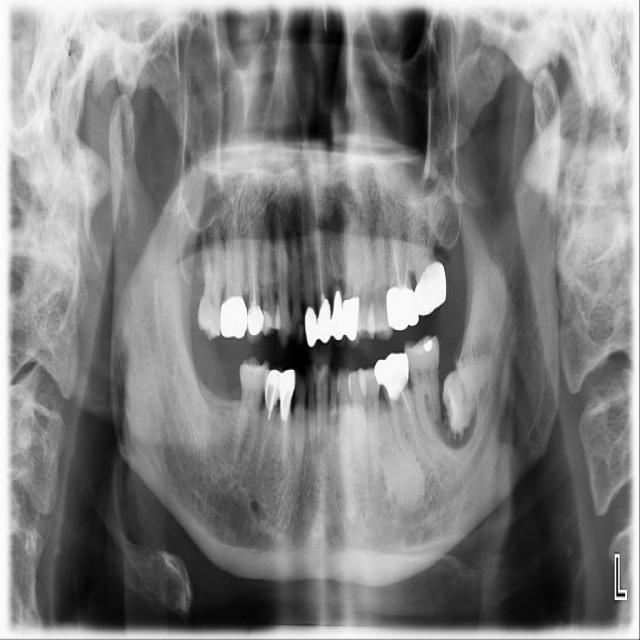52: (401, 333, 447, 387), (383, 283, 420, 334), (374, 352, 410, 401), (414, 262, 446, 316), (219, 295, 249, 339), (275, 368, 296, 422), (343, 295, 362, 347), (245, 301, 265, 345), (263, 369, 282, 411), (332, 291, 345, 341), (318, 297, 331, 343), (304, 307, 318, 347)
73: (381, 383, 426, 460), (254, 393, 279, 477), (386, 215, 414, 289), (241, 210, 262, 308), (321, 232, 346, 301), (312, 224, 328, 304), (574, 551, 578, 557)
BioHorizons Implant: (407, 195, 449, 316)
Biomet 3i Implant: (438, 352, 493, 439)
Blue Sky Bio Implant: (402, 334, 449, 446)
Caries: (196, 220, 225, 340)
